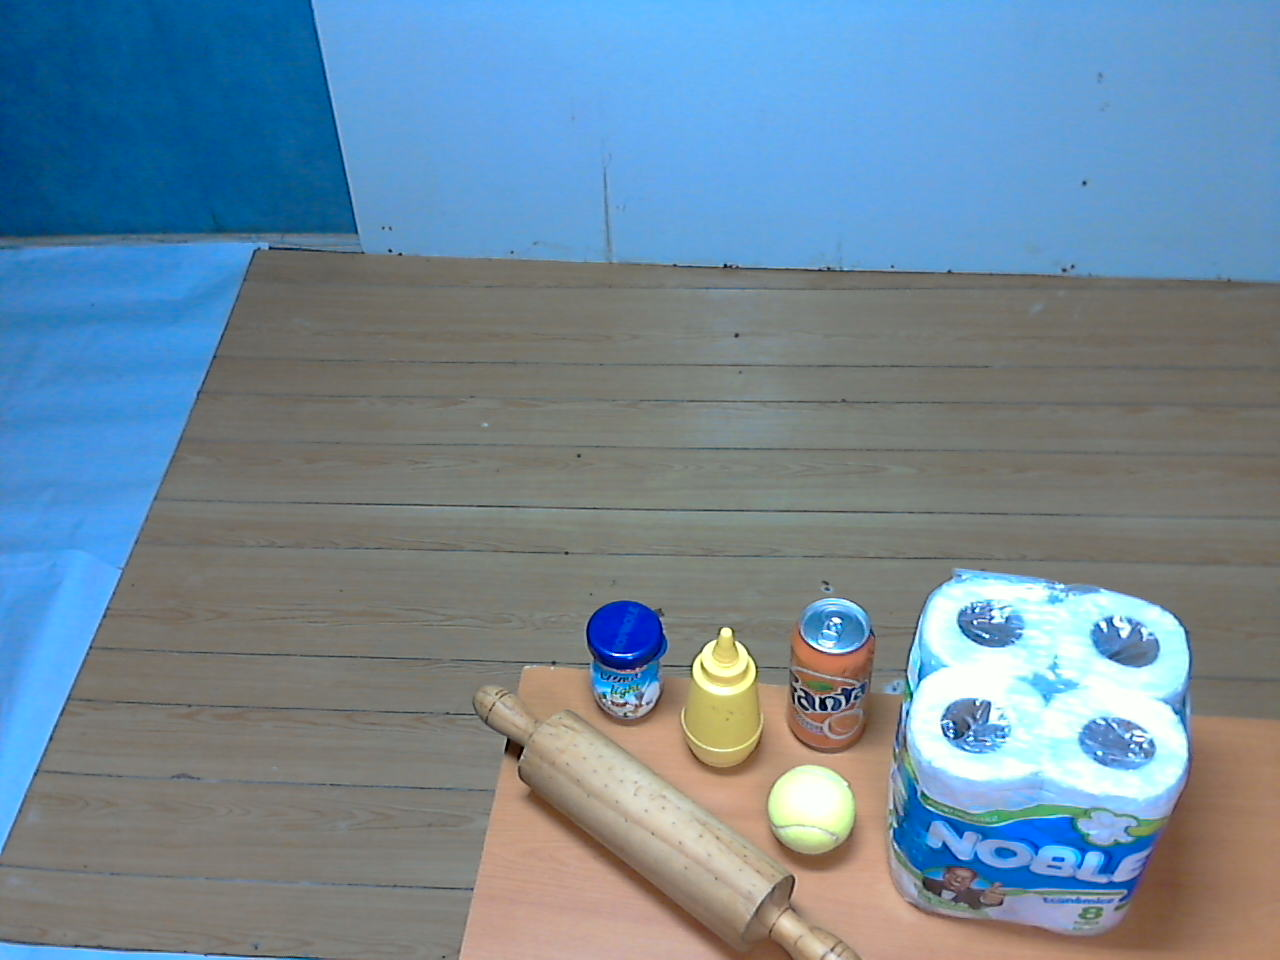confort: (885, 551, 1196, 947)
crema: (578, 597, 679, 734)
lata: (774, 591, 883, 760)
mostaza: (670, 617, 774, 782)
pelota: (757, 757, 863, 869)
uslero: (449, 669, 885, 960)
